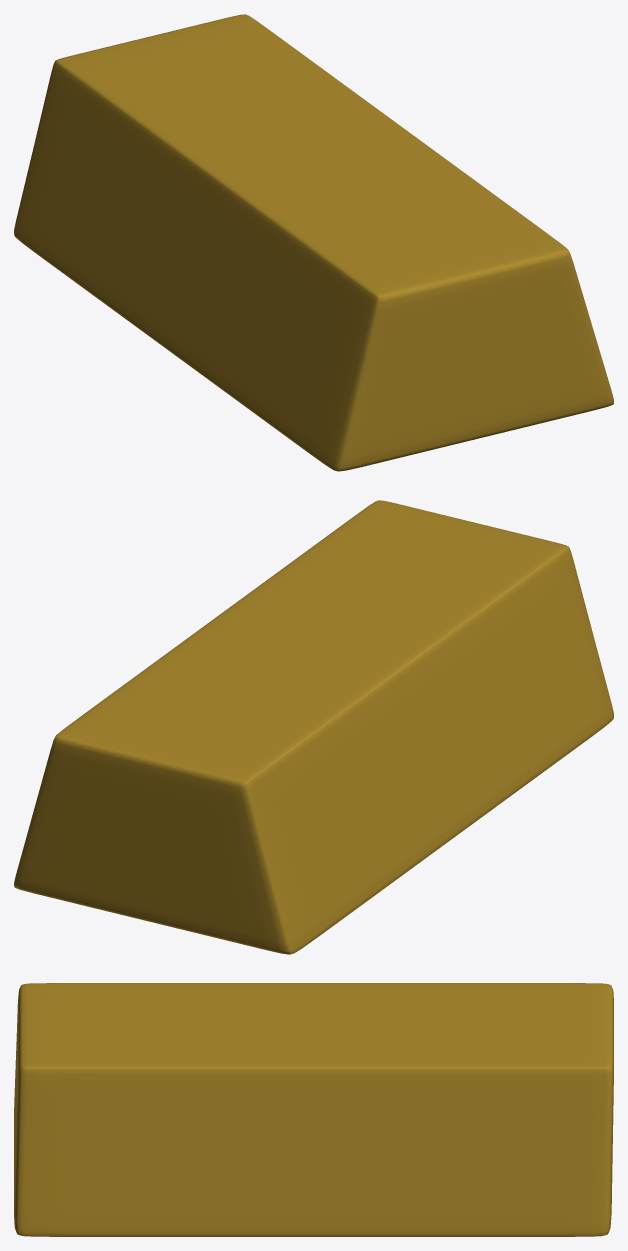
The model's file is Gold_Bar.fbx.
3 renders of one model, top to bottom at view 1: azimuth 30°, elevation 25°; view 2: azimuth 150°, elevation 25°; view 3: azimuth 270°, elevation 25°, orthographic. The views are drawn at different scales.
Visible parts, largest first — view 1: Gold_Bar; view 2: Gold_Bar; view 3: Gold_Bar.
Part boxes in pixels (bbox=[...]): Gold_Bar: bbox=[14, 14, 613, 471]; Gold_Bar: bbox=[14, 500, 613, 954]; Gold_Bar: bbox=[14, 983, 613, 1236].
Size of the model in its own units: 0.0989 by 0.056 by 0.2007.
1 material, 1 textured.
